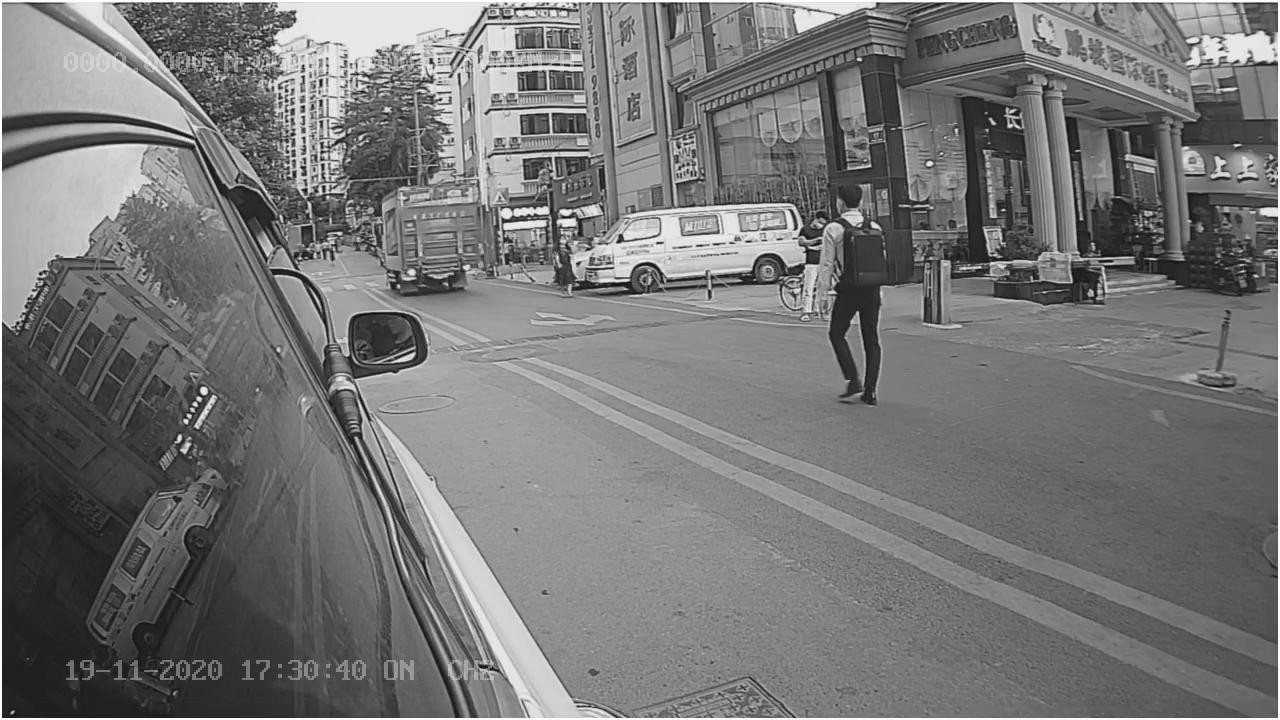person: (811, 174, 902, 401)
